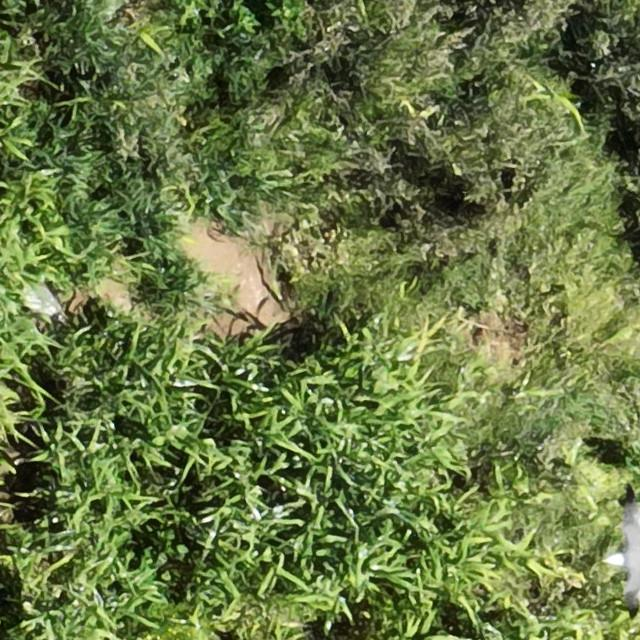F: (602, 499, 637, 622)
